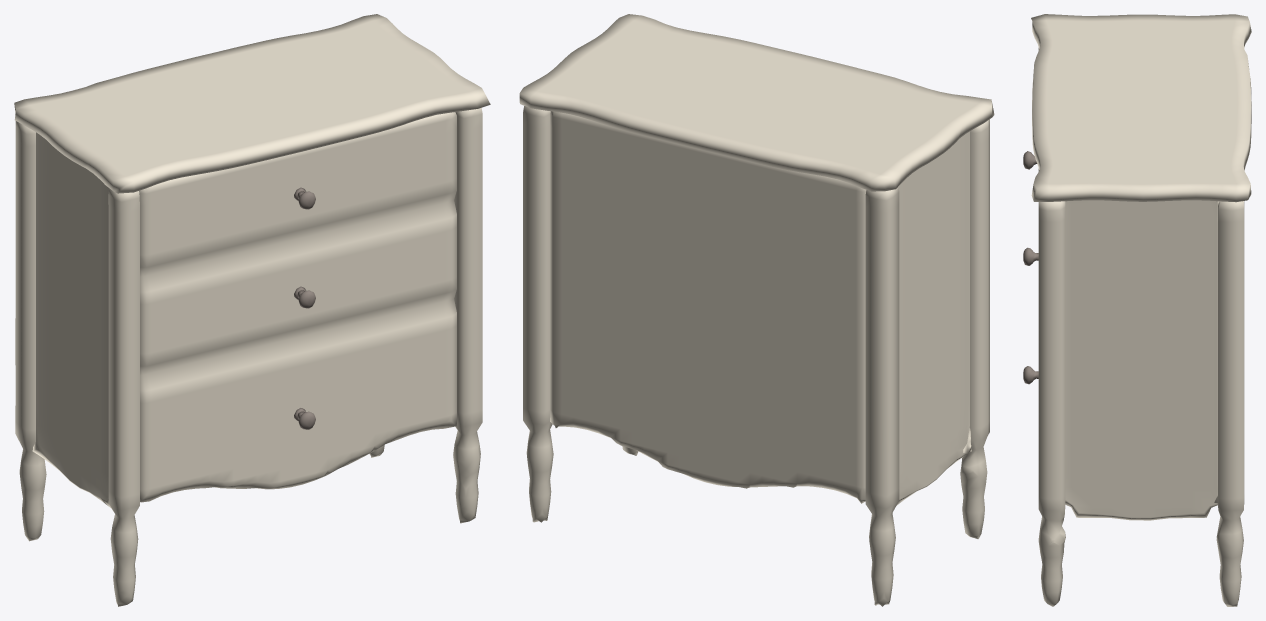
Rendered from uploads_files_3878950_1081_nightstand.fbx.
3 renders of one model, left to right at view 1: azimuth 30°, elevation 25°; view 2: azimuth 150°, elevation 25°; view 3: azimuth 270°, elevation 25°, orthographic. The views are drawn at different scales.
Visible parts, largest first — view 1: object_005, object_012, object_27, object_007; view 2: object_005, object_012, object_27, object_007; view 3: object_007, object_012, object_27.
Boxes of the visible parts, left/top/right/bottom form: object_005: left=139, top=112, right=456, bottom=502; object_012: left=14, top=14, right=490, bottom=193; object_27: left=15, top=108, right=482, bottom=606; object_007: left=32, top=132, right=111, bottom=508; object_005: left=550, top=111, right=866, bottom=503; object_012: left=519, top=14, right=994, bottom=191; object_27: left=523, top=106, right=989, bottom=606; object_007: left=896, top=131, right=971, bottom=505; object_007: left=1065, top=200, right=1219, bottom=520; object_012: left=1031, top=14, right=1251, bottom=202; object_27: left=1038, top=48, right=1244, bottom=606.
Bounding box in the file's own units: 63.34 × 70.03 × 34.43.
